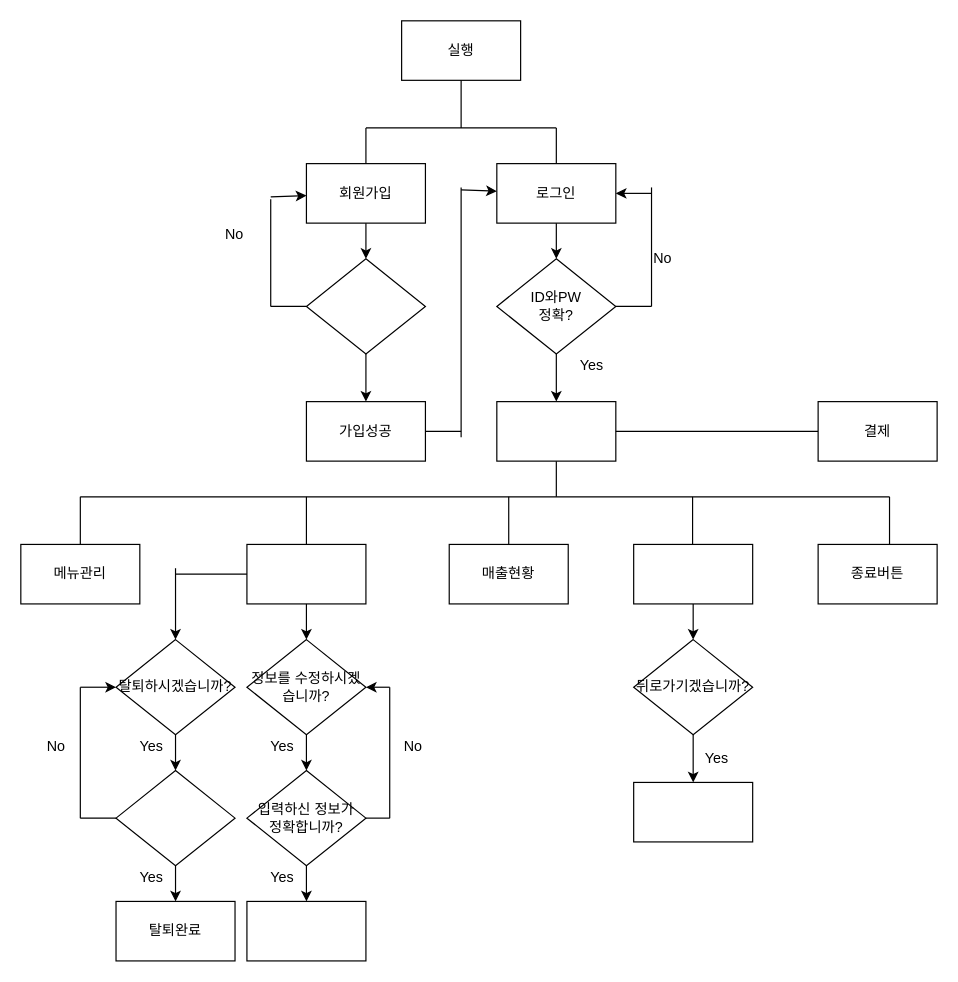
The diagram is 958 pixels wide and 982 high, and some of its shapes have lost their labels. Each missing label, with the box of its shape:
Pw가 올바릅니까?: (115, 769, 235, 866)
뒤로가기: (632, 543, 753, 604)
로그인화면: (632, 781, 753, 842)
메인화면: (496, 400, 616, 461)
수정완료: (246, 900, 366, 961)
입력하신정보가 올바릅니까?: (305, 258, 425, 354)
회원관리: (246, 543, 366, 604)
